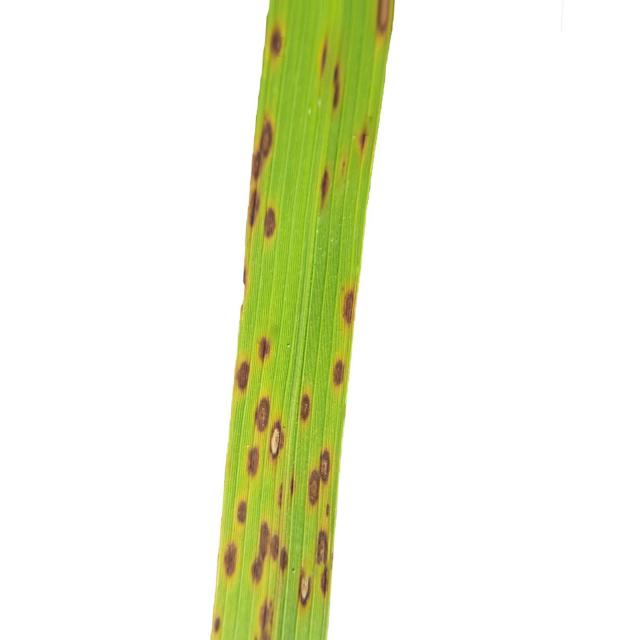Brown_Spot: (271, 470, 306, 510), (251, 522, 270, 582), (235, 338, 250, 394), (309, 450, 330, 489), (254, 605, 274, 639), (270, 534, 288, 571), (376, 0, 394, 34), (269, 426, 285, 459), (259, 118, 272, 158), (255, 398, 270, 431), (248, 188, 260, 228), (315, 530, 329, 564), (342, 289, 355, 325), (224, 542, 238, 575), (299, 571, 311, 606), (320, 168, 331, 206), (332, 62, 341, 108), (331, 359, 345, 386), (264, 208, 276, 239), (299, 391, 311, 421), (270, 28, 282, 56), (248, 446, 259, 476), (258, 336, 271, 361), (236, 500, 248, 524), (251, 154, 262, 180), (320, 39, 328, 73), (359, 129, 369, 153), (321, 568, 329, 596), (214, 616, 221, 632), (325, 504, 331, 516)
